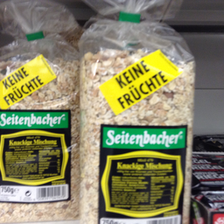cereal: (79, 18, 195, 223), (1, 33, 81, 224)
